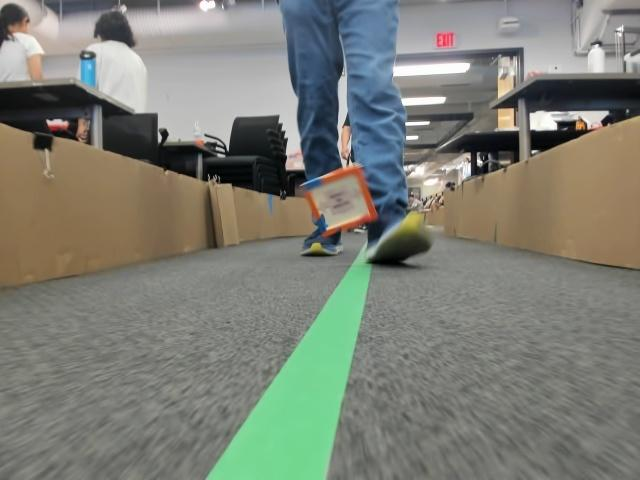Do Not Go Around: (313, 195, 357, 219)
